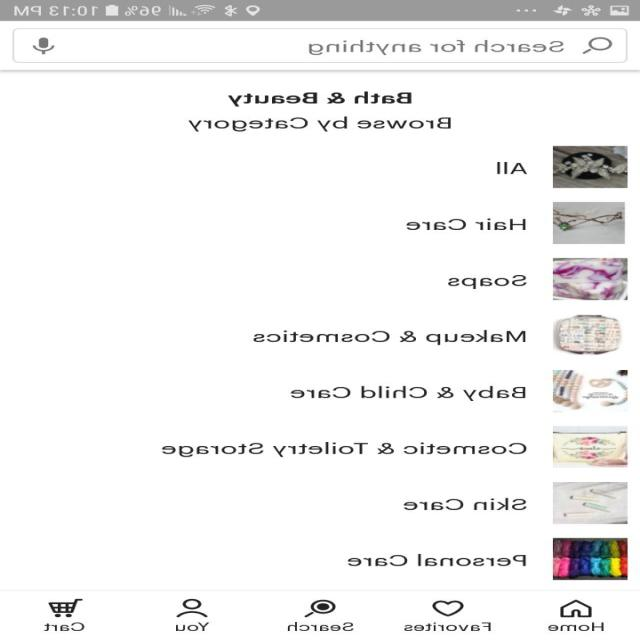EditText: (13, 28, 628, 63)
Icon: (48, 598, 84, 617), (176, 598, 209, 618), (560, 598, 593, 617), (304, 599, 337, 617), (432, 600, 465, 616), (582, 37, 612, 54), (33, 37, 56, 54)
Image: (552, 145, 628, 188), (552, 257, 628, 300), (552, 370, 628, 412), (552, 426, 628, 468), (552, 537, 628, 579), (553, 201, 626, 244), (552, 482, 628, 523), (552, 314, 622, 355)
Text: (162, 442, 528, 457), (188, 115, 452, 132), (254, 329, 526, 345), (308, 40, 564, 55), (290, 385, 526, 401), (228, 91, 412, 107), (348, 553, 528, 566), (403, 497, 528, 510), (406, 218, 526, 230), (448, 275, 528, 289), (404, 621, 492, 631), (288, 621, 355, 631), (548, 621, 604, 631), (44, 621, 86, 631), (497, 161, 528, 174), (176, 621, 211, 631)
